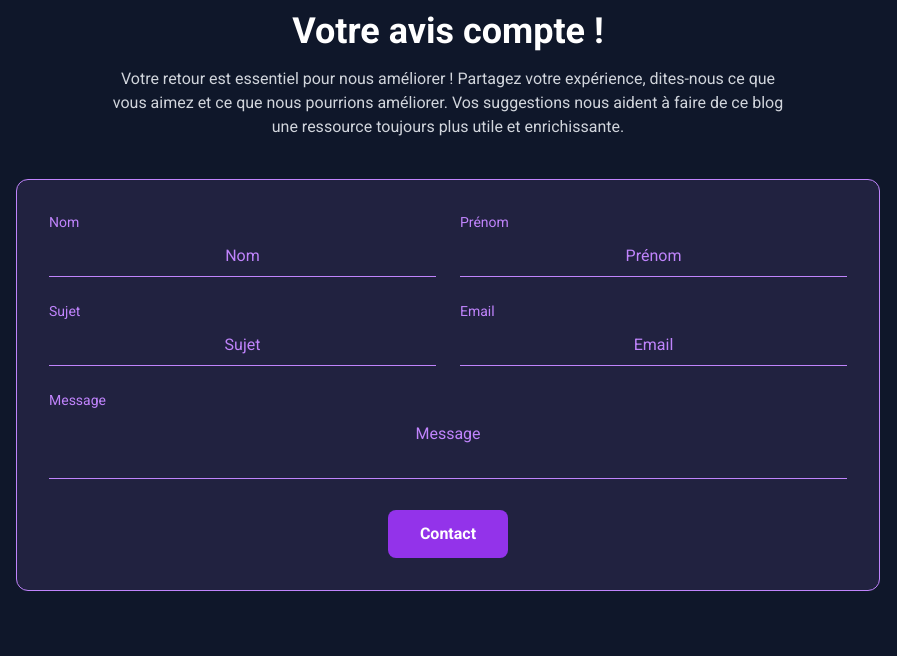
Test: Contact › affiche un message de succès après une soumission valide
Step 1. Type "Doe" into the field labelled "Nom" → x=242, y=256, box [49,236,436,277]
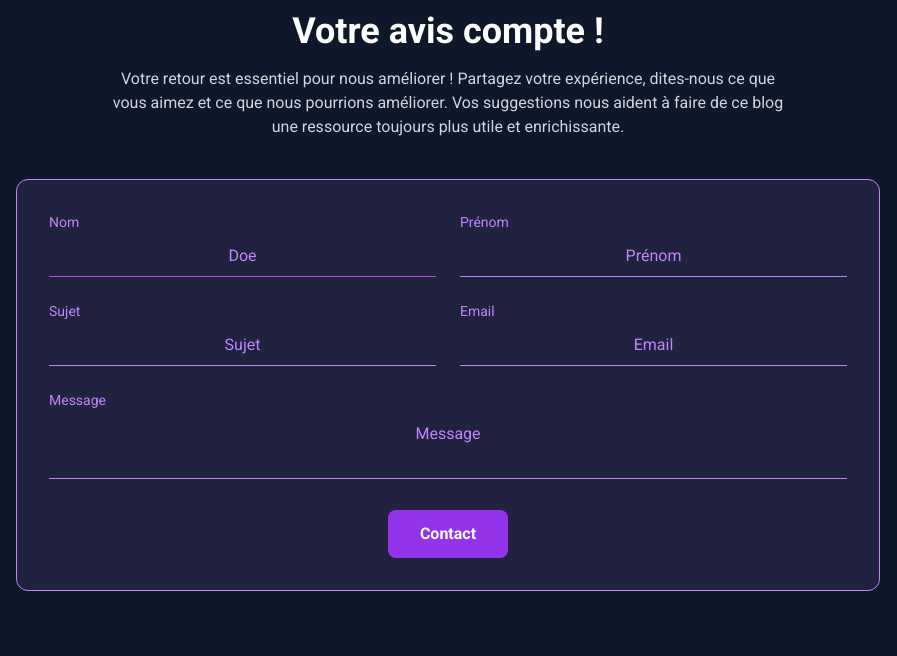
Step 2. Type "John" into the field labelled "Prénom" → x=654, y=256, box [460,236,847,277]
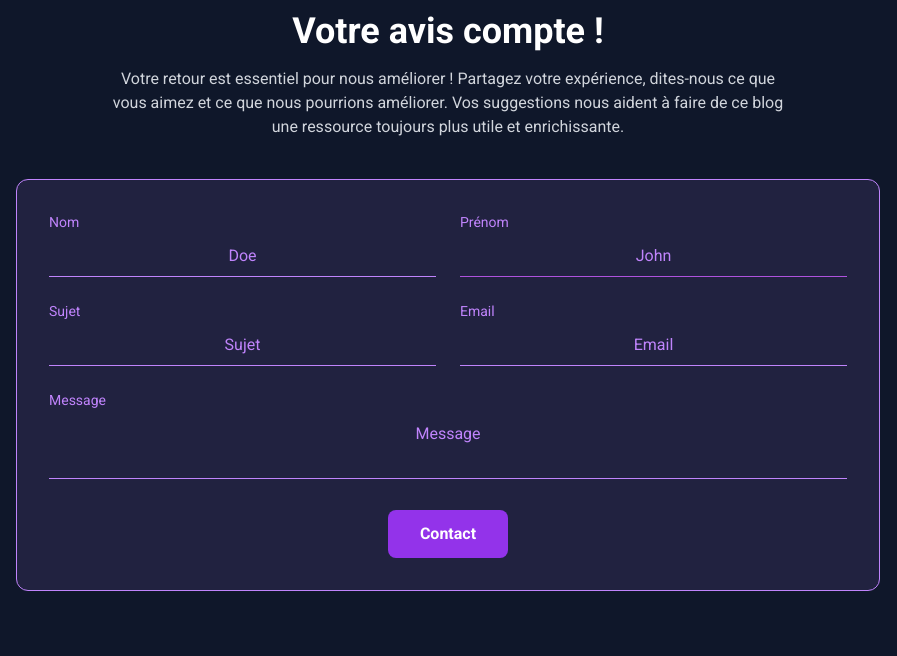
Step 3. Type "Une question" into the field labelled "Sujet" → x=242, y=346, box [49,325,436,366]
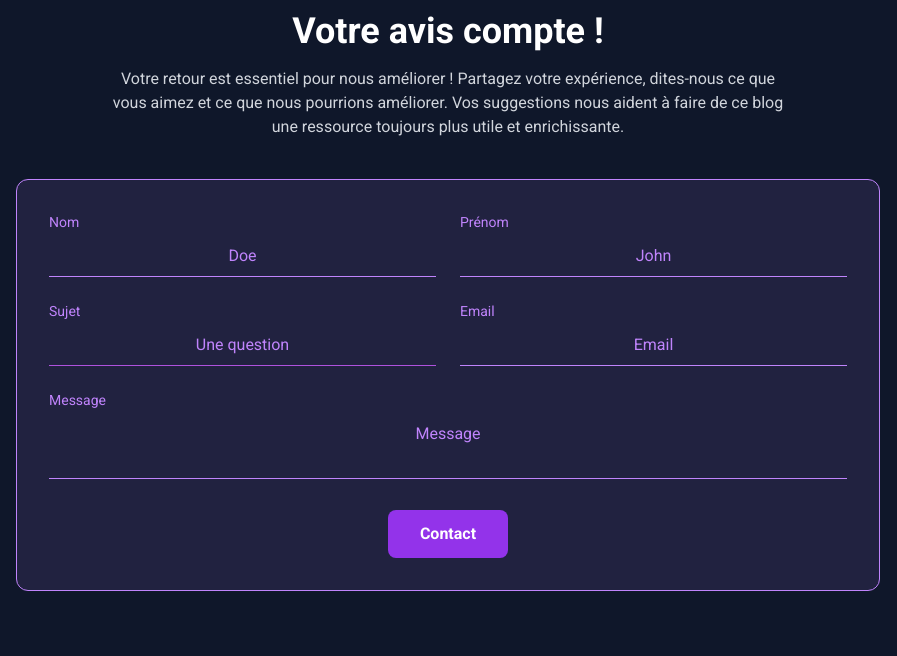
Step 4. Type "john.doe@example.com" into the field labelled "Email" → x=654, y=346, box [460,325,847,366]
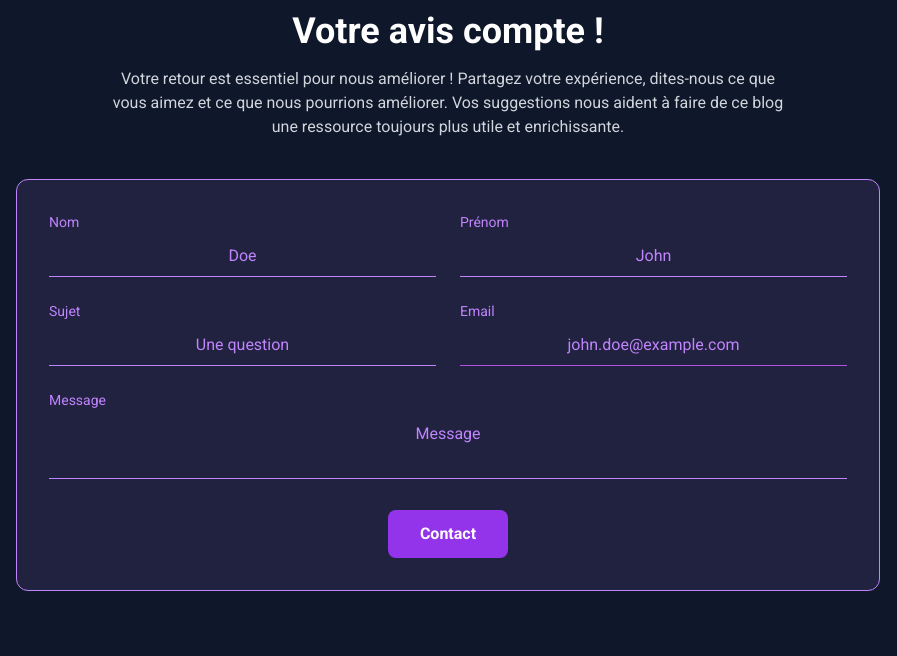
Step 5. Type "Bonjour, ceci est un message." into the text box labelled "Message" → x=448, y=446, box [49,414,847,479]
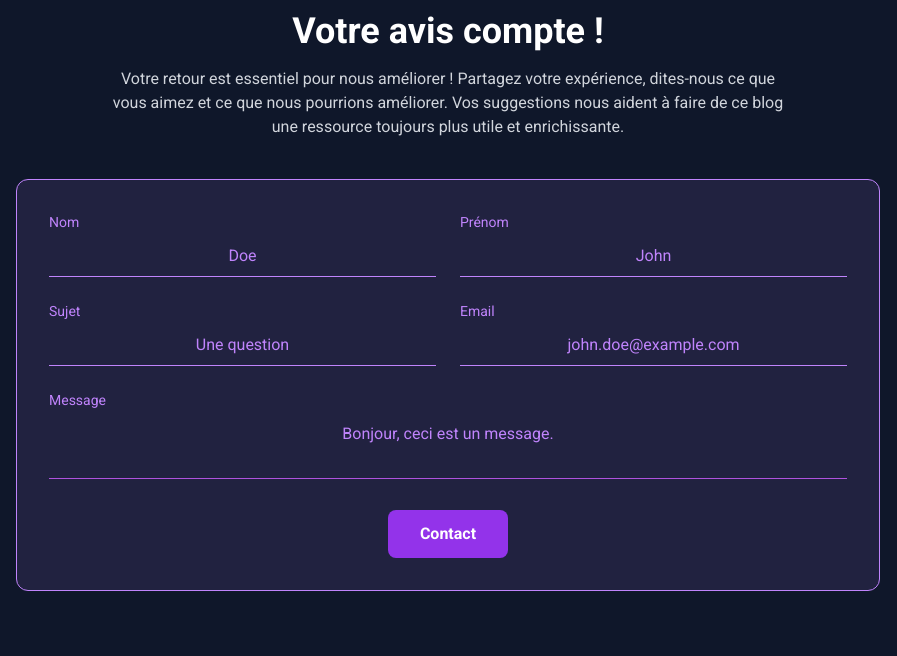
Step 6. Click the button "Contact" → x=448, y=534, box [388,510,508,558]
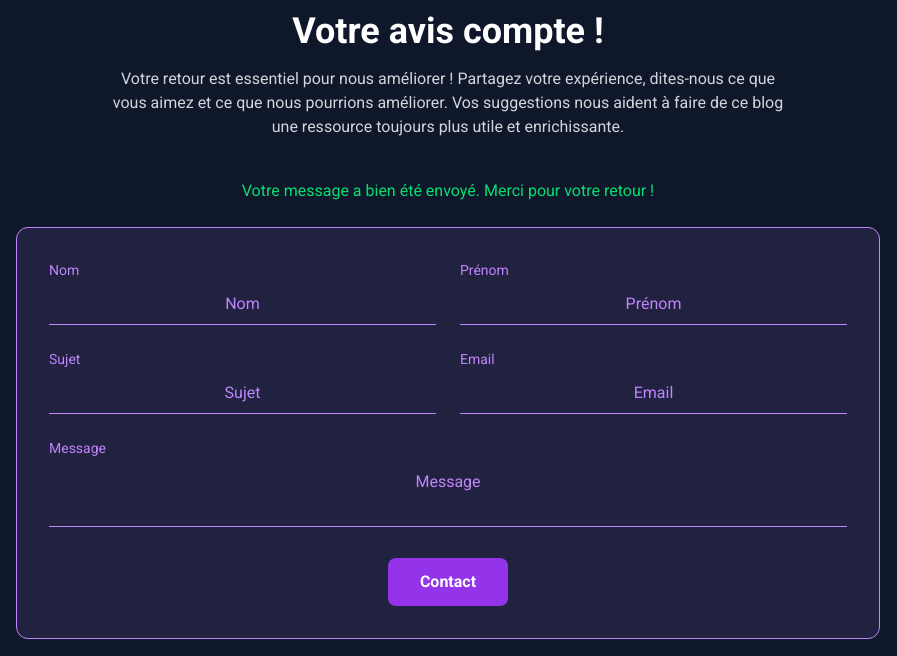
Check: the message shows "Votre message a bien été envoyé", box [242,181,654,200]
